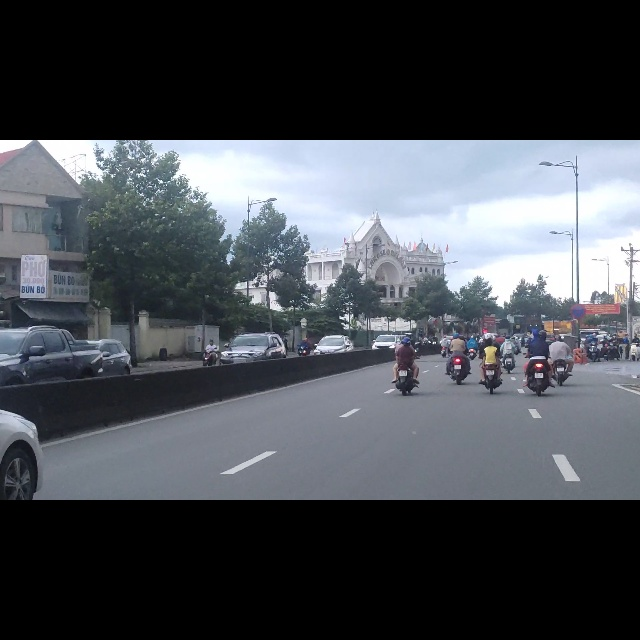bien_cam: (571, 292, 586, 319)
